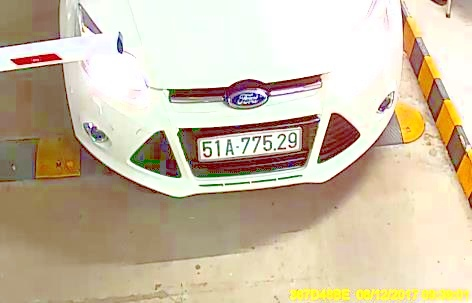plate: (194, 120, 308, 159)
